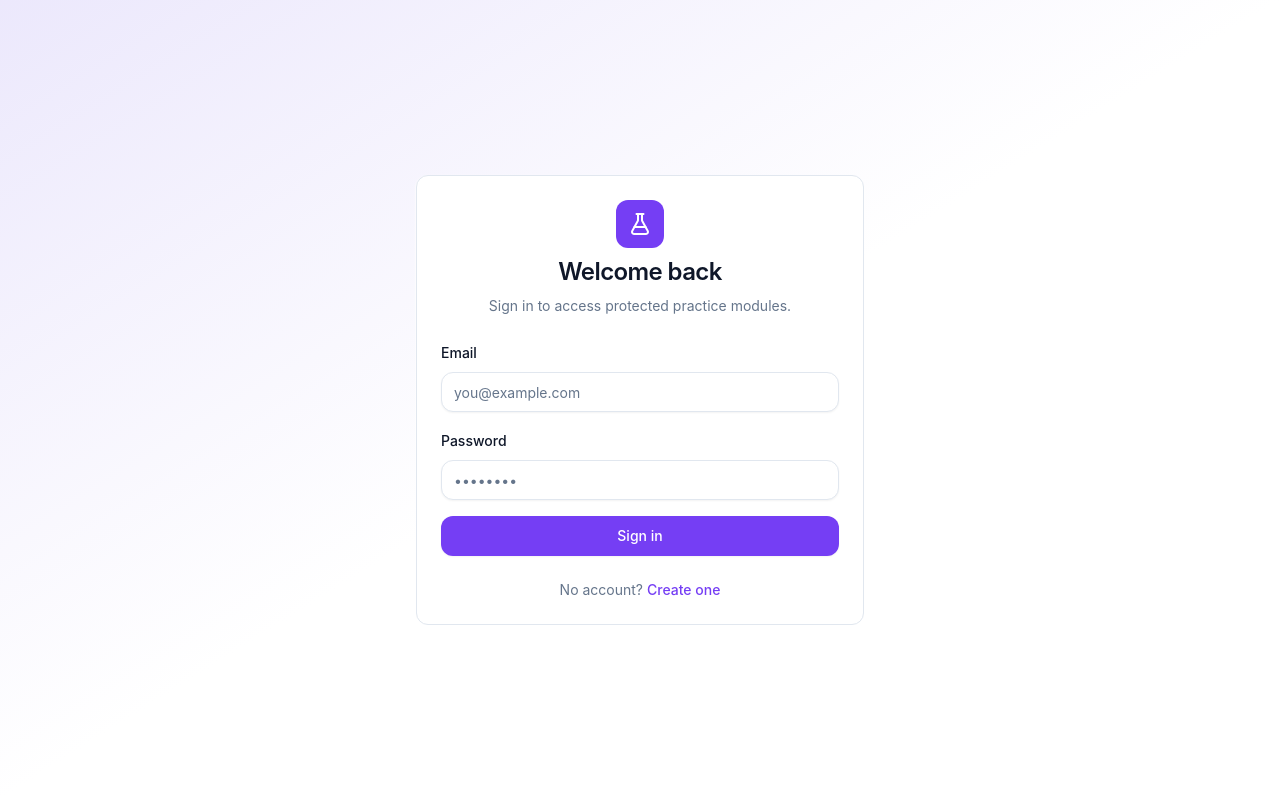
Authentication › shows an inline error for invalid credentials
Type "user@practice.dev" into the field with test id "login-email" at (640, 392), box [441,372,839,412]
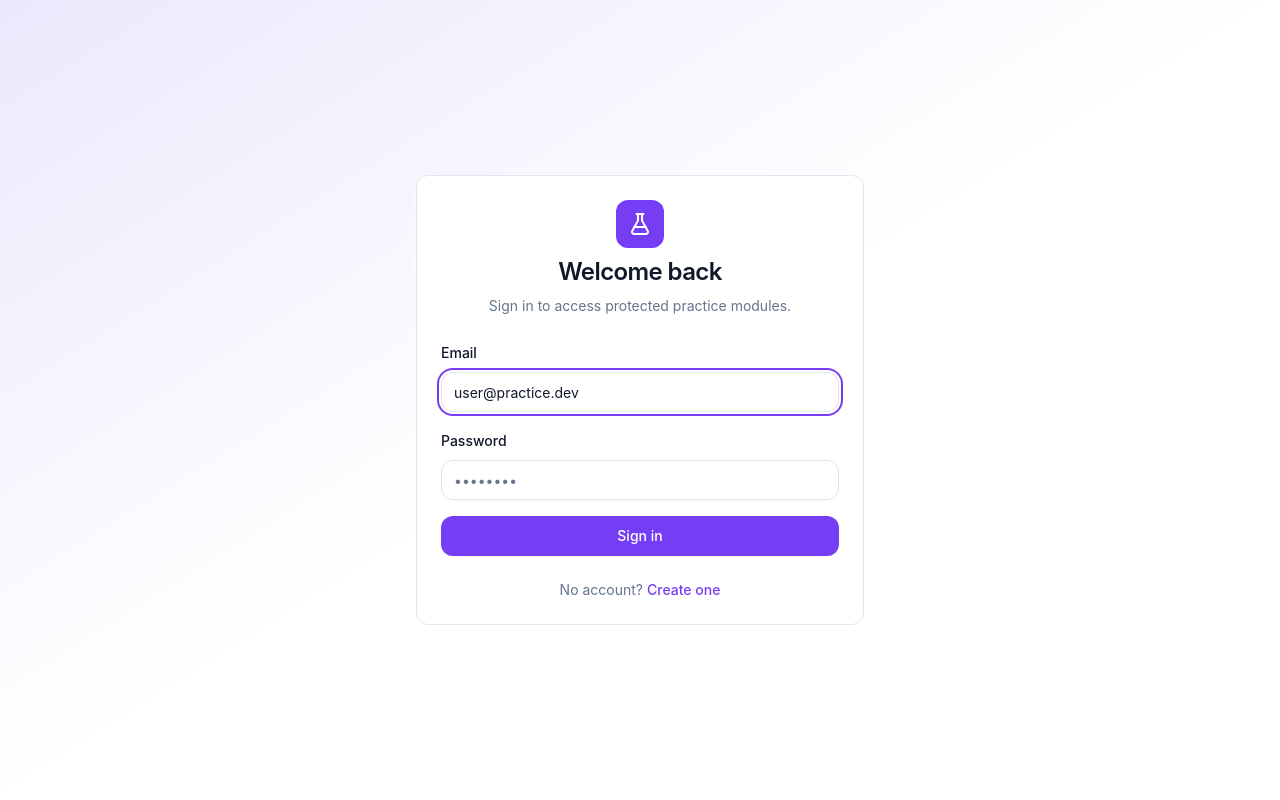
Type "WrongPassword1" into the password field with test id "login-password" at (640, 480), box [441,460,839,500]
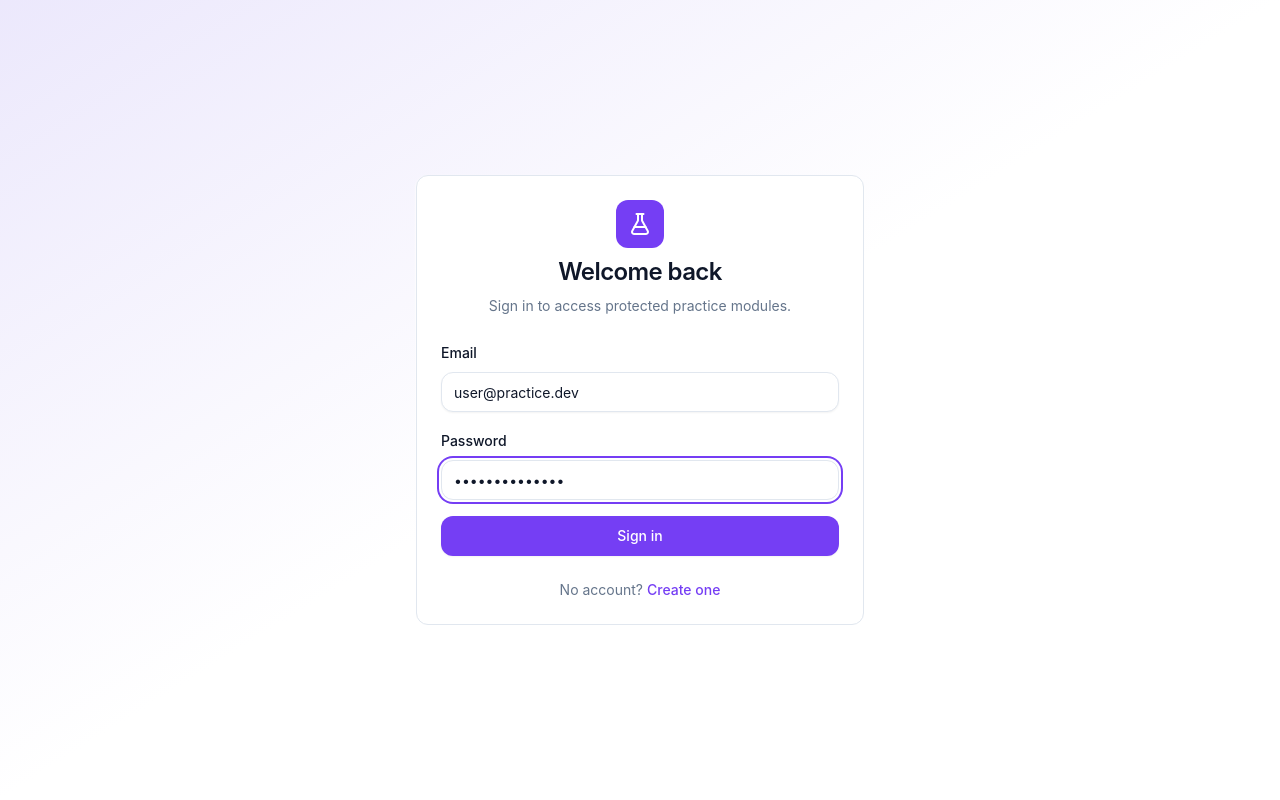
Click the button with test id "login-submit" at (640, 536), box [441,516,839,556]
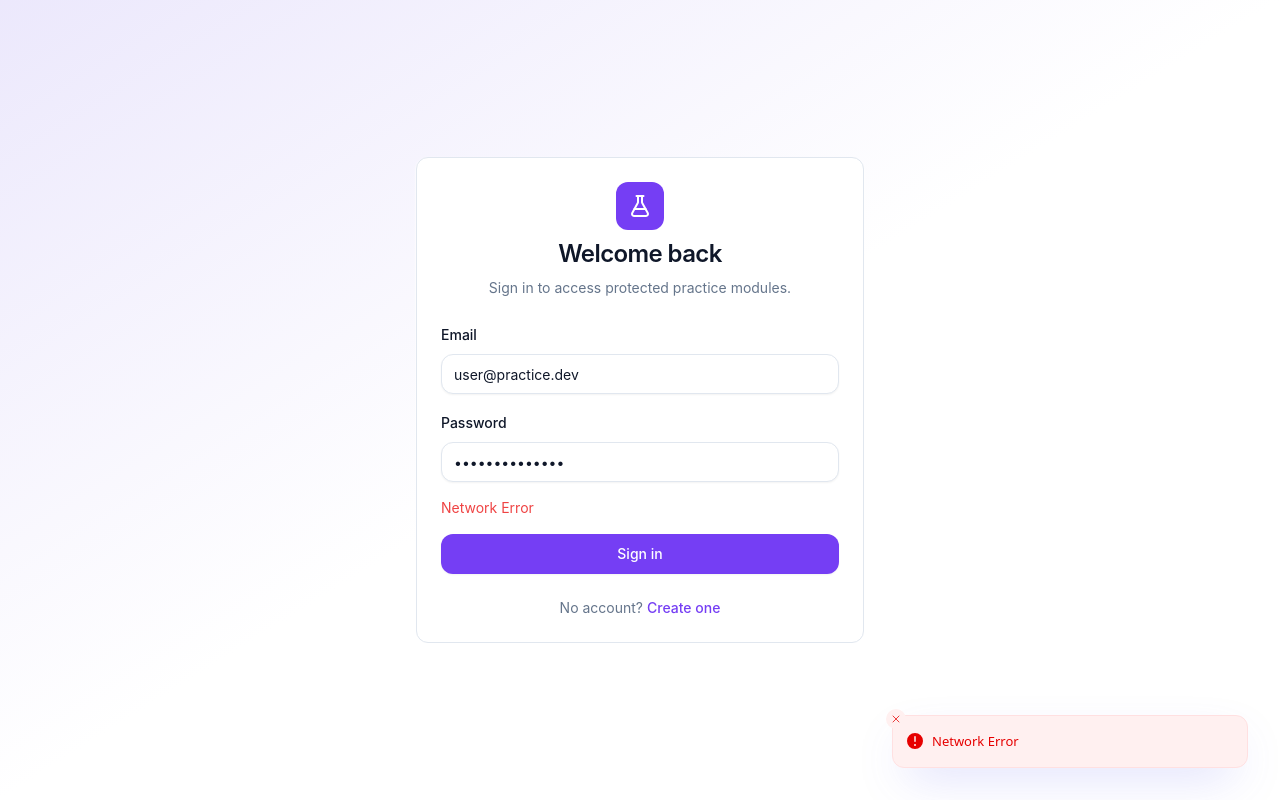
Result: the message "Network Error" is shown at [441,499,534,516]
